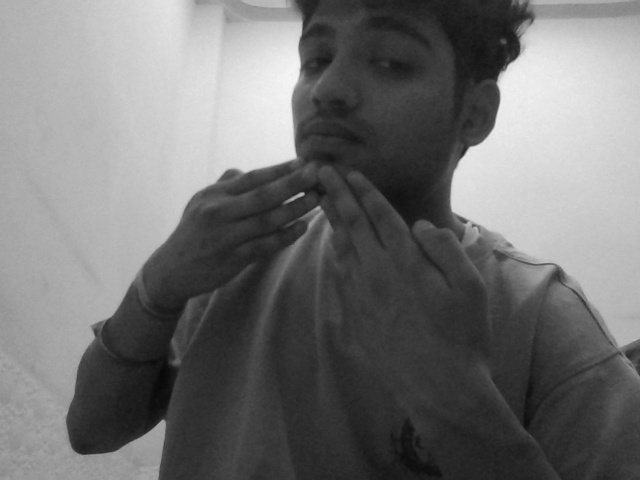Thanks: (141, 130, 492, 375)
